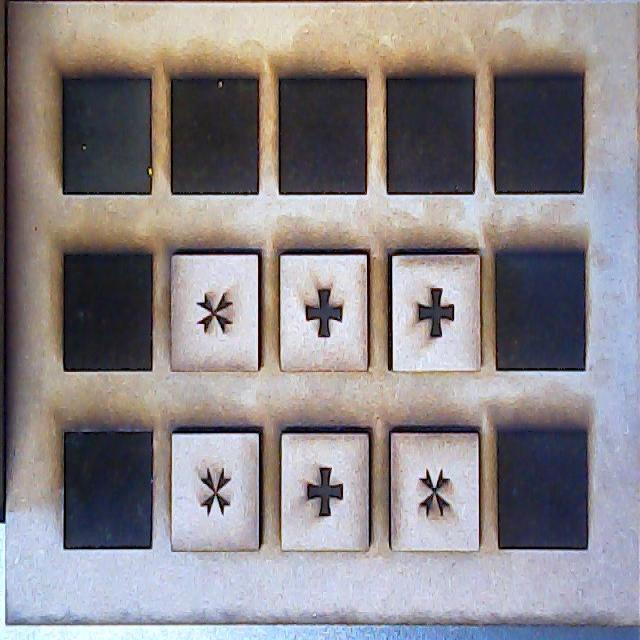maltese: (170, 429, 263, 553), (390, 430, 481, 550), (172, 251, 260, 374)
temple: (280, 250, 369, 374), (391, 253, 481, 370), (281, 431, 369, 544)
